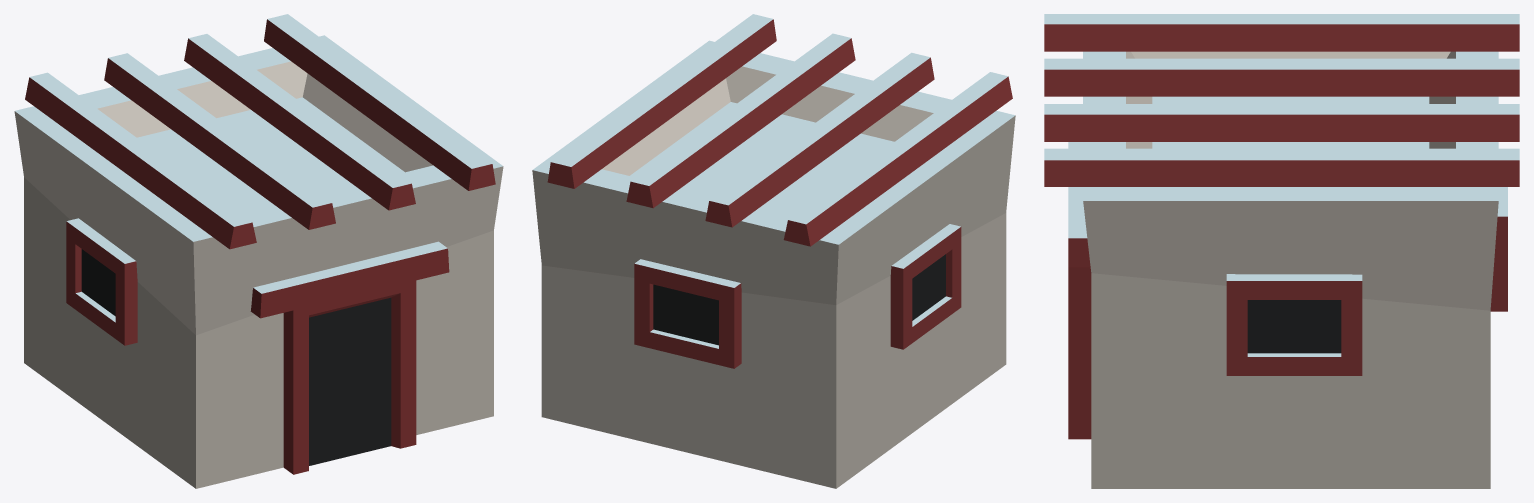
Rendered from SM_Bld_Adventure_House_02_Snow.fbx.
3 views of the same model, side by side, from view 1: azimuth 30°, elevation 25°; view 2: azimuth 150°, elevation 25°; view 3: azimuth 270°, elevation 25° (orthographic). The views are drawn at different scales.
Parts seen in each view (by area): view 1: SM_Bld_Adventure_House_02_Snow; view 2: SM_Bld_Adventure_House_02_Snow; view 3: SM_Bld_Adventure_House_02_Snow.
Part boxes in pixels (x1,y1,x2,y2): SM_Bld_Adventure_House_02_Snow: [14, 14, 503, 488]; SM_Bld_Adventure_House_02_Snow: [532, 14, 1015, 488]; SM_Bld_Adventure_House_02_Snow: [1044, 14, 1519, 488].
Bounding box in the file's own units: 67.57 × 54.37 × 74.04.
1 material, 1 textured.
